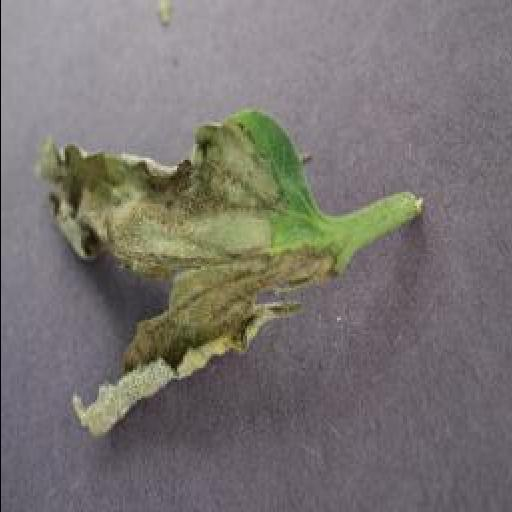disease_tomato: (28, 108, 350, 442)
